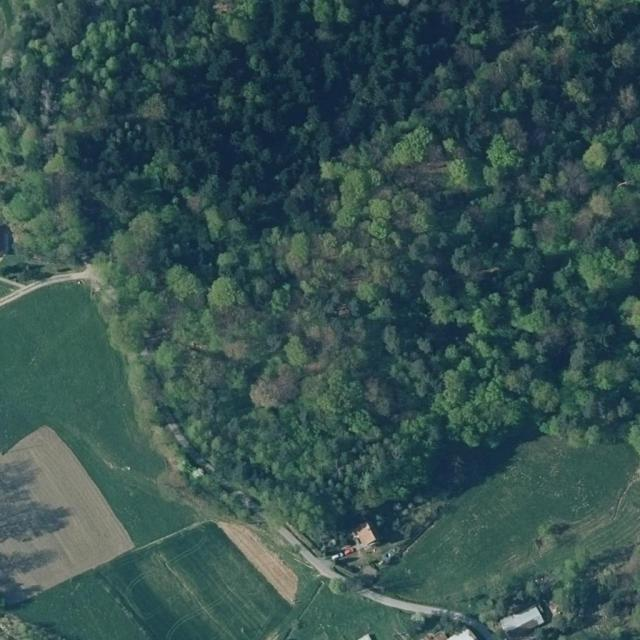agricultural_land: (0, 270, 197, 583), (214, 508, 309, 606), (286, 585, 413, 640)
greenland: (105, 364, 217, 491), (87, 274, 158, 409), (172, 454, 273, 531), (379, 481, 452, 550), (473, 572, 556, 624), (0, 250, 56, 293), (246, 487, 284, 523)
metalled_road: (357, 577, 500, 640), (277, 519, 344, 587)
unmetalled_road: (0, 277, 25, 291)
